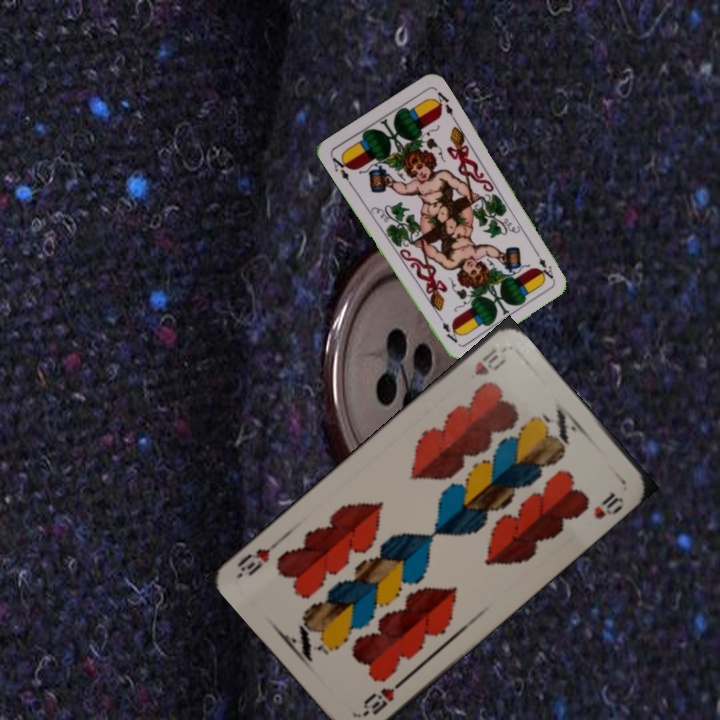EA: (327, 151, 355, 188), (531, 245, 557, 283)
H10: (359, 675, 407, 719), (470, 343, 508, 379)
